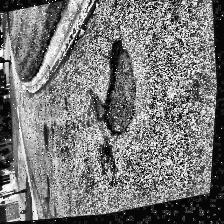pothole: (86, 38, 146, 140)
